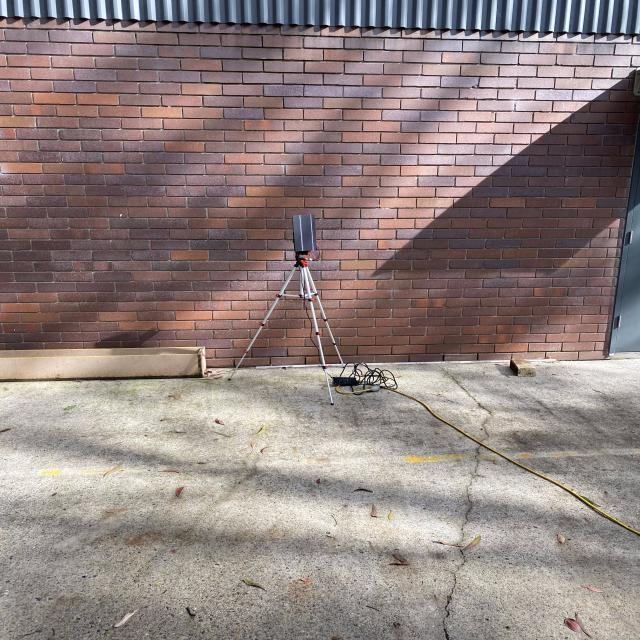matrix: (291, 214, 321, 252)
